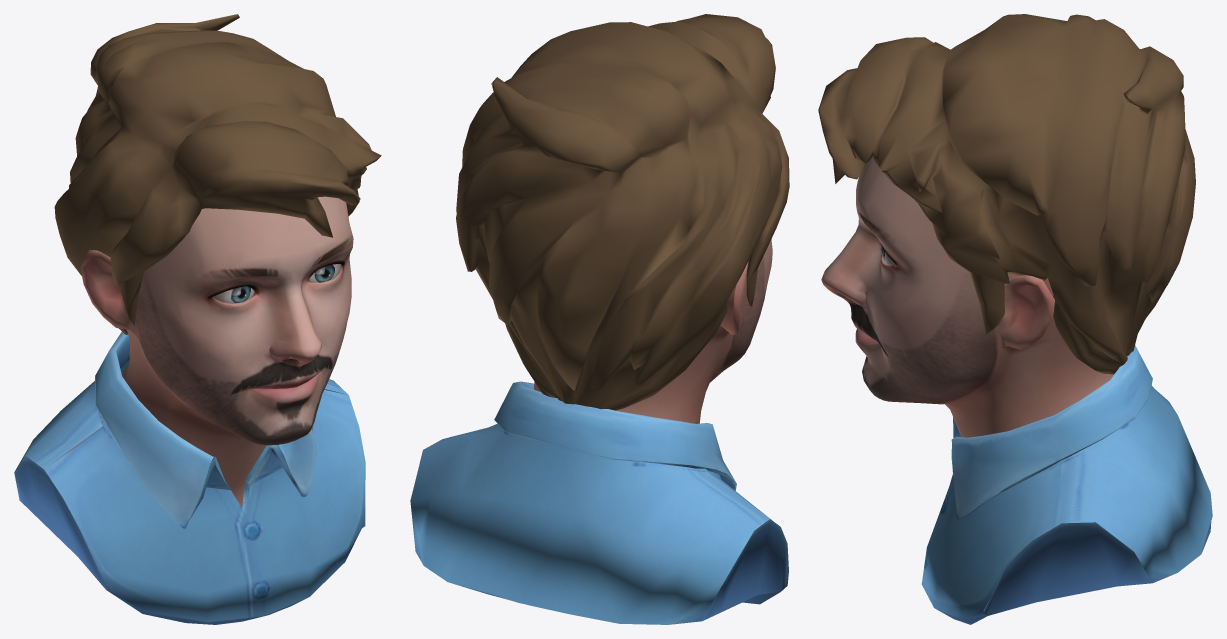
Rendered from alex.glb.
3 renders of one model, left to right at view 1: azimuth 30°, elevation 25°; view 2: azimuth 150°, elevation 25°; view 3: azimuth 270°, elevation 25°, orthographic. The views are drawn at different scales.
Visible parts, largest first — view 1: Wolf3D_Shirt, Wolf3D_Hair, Wolf3D_Head; view 2: Wolf3D_Hair, Wolf3D_Shirt, Wolf3D_Head; view 3: Wolf3D_Hair, Wolf3D_Shirt, Wolf3D_Head.
Part boxes in pixels (left/top/right/bottom): Wolf3D_Shirt: left=14, top=332, right=365, bottom=624; Wolf3D_Hair: left=54, top=14, right=381, bottom=334; Wolf3D_Head: left=49, top=196, right=353, bottom=507; Wolf3D_Hair: left=456, top=14, right=789, bottom=410; Wolf3D_Shirt: left=410, top=381, right=788, bottom=624; Wolf3D_Head: left=534, top=239, right=772, bottom=423; Wolf3D_Hair: left=818, top=14, right=1195, bottom=374; Wolf3D_Shirt: left=921, top=345, right=1212, bottom=624; Wolf3D_Head: left=821, top=159, right=1113, bottom=516.
Size of the model in its own units: 0.2312 by 0.3867 by 0.2494.
4 materials, 4 textured.
